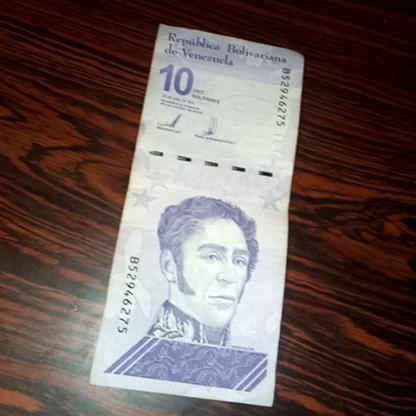ten-front-vef: (88, 27, 307, 416)
